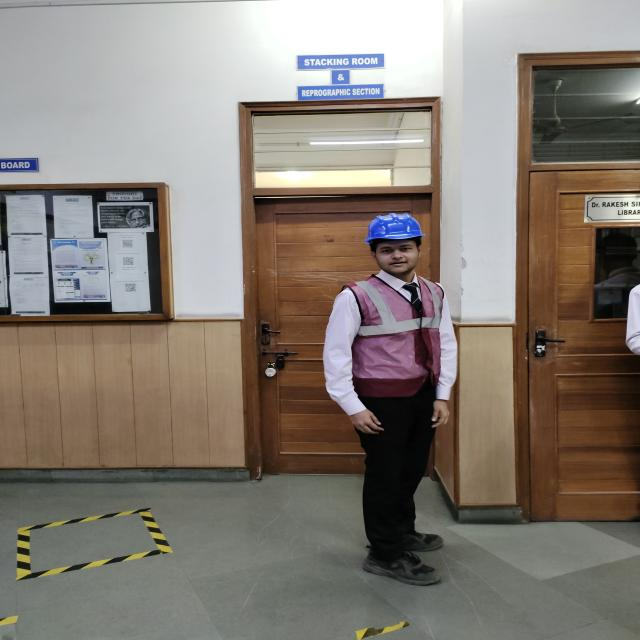safe: (328, 213, 454, 583)
